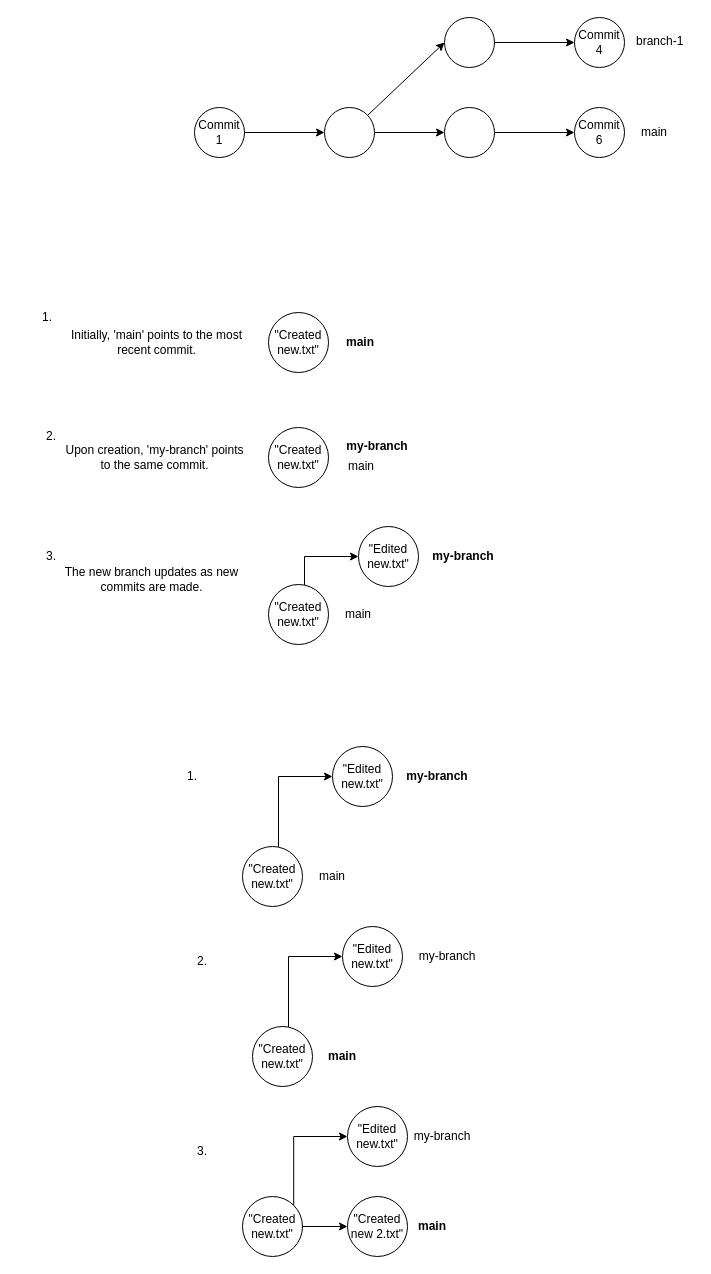
Image size: 711x1274. Some labels were removed from this diagram. The shapes that lost their labels are listed below. From the top down, each one's box as (x1, y1, x2, y2) in pixels, then its label:
(444, 16, 494, 68): Commit 3
(324, 106, 374, 158): Commit 2
(444, 106, 494, 158): Commit 5
